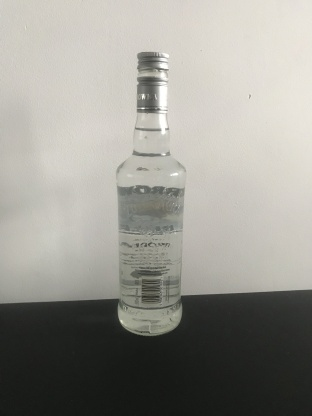nakretka: (135, 49, 170, 113)
